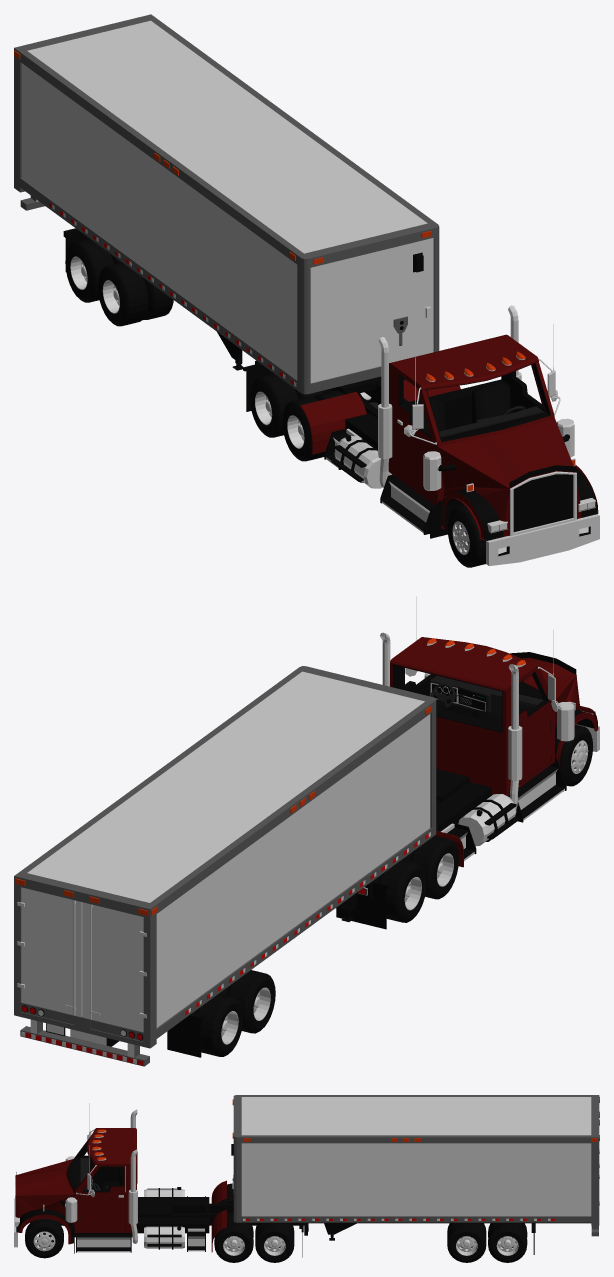
The model's file is Truck.obj.
3 renders of one model, top to bottom at view 1: azimuth 30°, elevation 25°; view 2: azimuth 150°, elevation 25°; view 3: azimuth 270°, elevation 25°, orthographic. The views are drawn at different scales.
Parts seen in each view (by area): view 1: Cube, Body, Wheels, Wheels.001, Fenders, Doors, FuelTanks, Seats, Dash; view 2: Cube, Body, Wheels, Wheels.001, Doors, Dash, FuelTanks, Fenders, Cube.001, Cube.003; view 3: Cube, Body, Wheels, Wheels.001, Doors, FuelTanks, Fenders, Cube.001, Dash.
Boxes of the visible parts, x1,y1,x2,y2 form: Cube: (14, 14, 439, 394); Body: (243, 305, 599, 565); Wheels: (250, 374, 485, 567); Wheels.001: (65, 239, 173, 326); Fenders: (300, 379, 598, 540); Doors: (397, 364, 545, 500); FuelTanks: (331, 435, 391, 488); Seats: (408, 383, 510, 431); Dash: (439, 406, 544, 437); Cube: (14, 666, 436, 1066); Body: (336, 596, 599, 929); Wheels: (373, 724, 593, 922); Wheels.001: (193, 970, 275, 1056); Doors: (403, 667, 550, 783); Dash: (429, 675, 543, 716); FuelTanks: (458, 794, 519, 846); Fenders: (435, 705, 598, 867); Cube.001: (185, 832, 430, 1015); Cube.003: (21, 1031, 143, 1065); Cube: (232, 1095, 599, 1254); Body: (14, 1103, 308, 1257); Wheels: (25, 1183, 294, 1262); Wheels.001: (447, 1223, 527, 1262); Doors: (80, 1150, 125, 1230); FuelTanks: (144, 1187, 184, 1249); Fenders: (16, 1180, 226, 1253); Cube.001: (243, 1218, 554, 1220); Dash: (80, 1158, 108, 1217).
Bounding box in the file's own units: 13.91 × 16.45 × 69.73.
